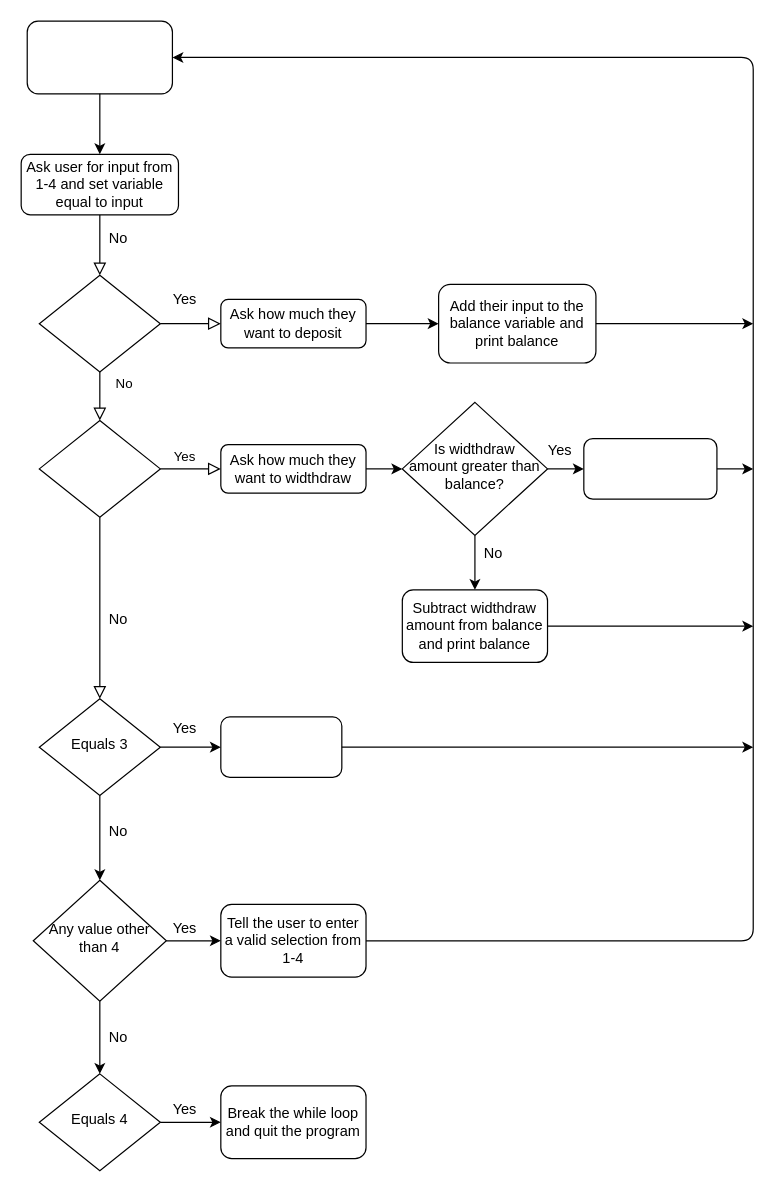
The diagram is 784 pixels wide and 1192 high, and some of its shapes have lost their labels. The centre of each missing label's shape, as x and y in pixels:
Equals 1: [99,323]
Equals 2: [99,468]
Print current balance: [281,746]
Tell the user they have insufficient funds: [650,468]
While userInput variable is not 4: [99,57]
